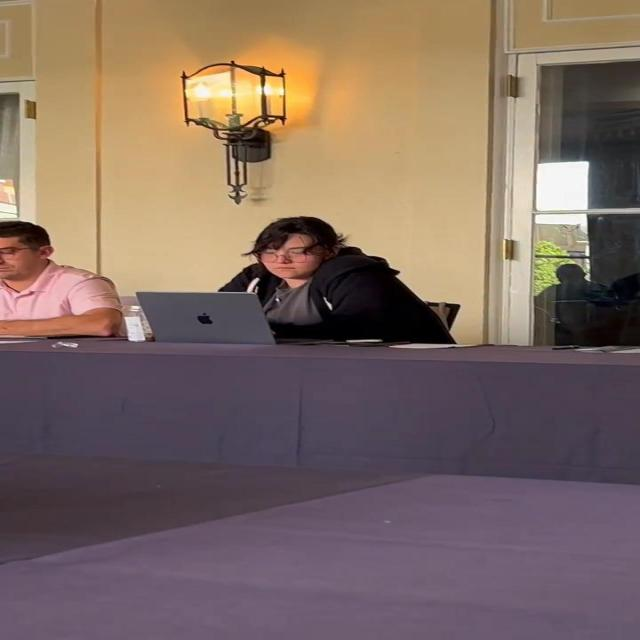NO-Mask: (255, 228, 329, 282), (0, 227, 36, 280)
